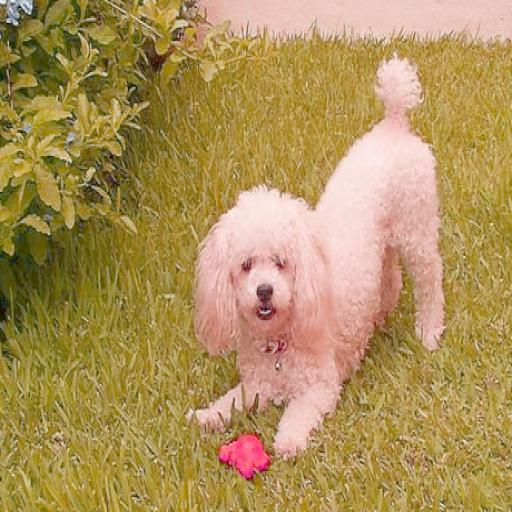dog_face: (197, 189, 345, 348)
